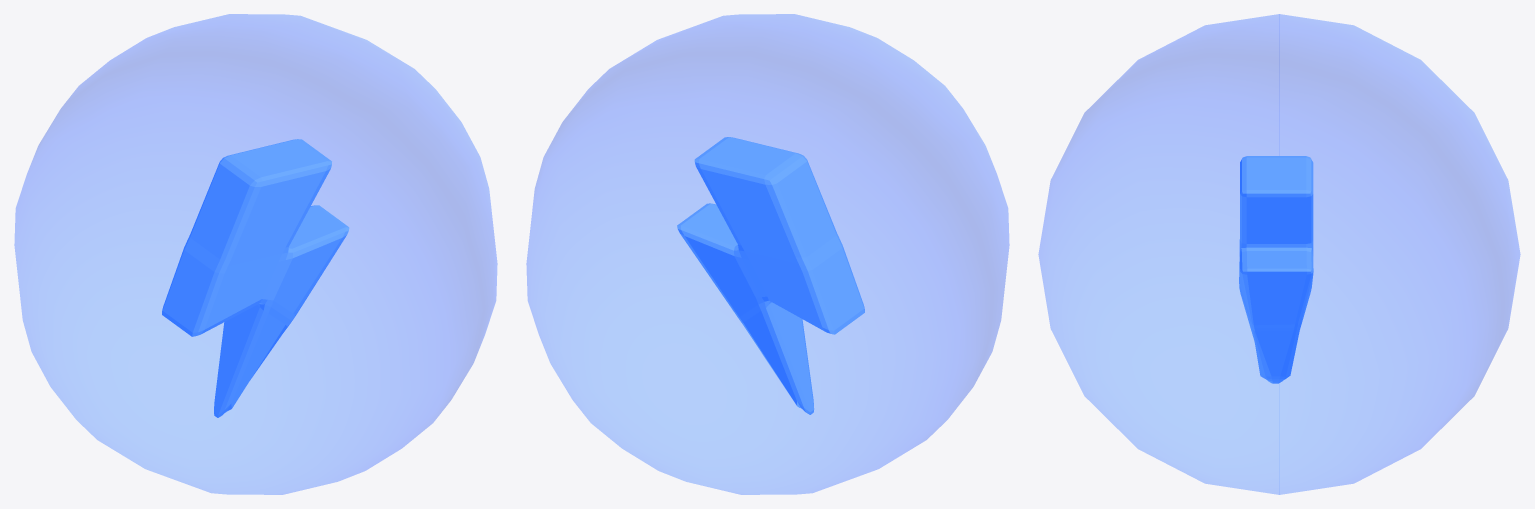
The model's file is LightningBubbled.glb.
The picture shows the model from 3 angles, left to right: view 1: azimuth 30°, elevation 25°; view 2: azimuth 150°, elevation 25°; view 3: azimuth 270°, elevation 25°; orthographic projection.
Parts seen in each view (by area): view 1: Orb, Lightning; view 2: Orb, Lightning; view 3: Orb, Lightning.
Part boxes in pixels (box(x1,y1,x2,y2)): Orb: box(14, 14, 497, 494); Lightning: box(162, 139, 349, 417); Orb: box(526, 14, 1009, 494); Lightning: box(677, 137, 864, 414); Orb: box(1038, 14, 1520, 494); Lightning: box(1239, 156, 1313, 383).
Bounding box in the file's own units: 11.4 × 11.49 × 11.42.
